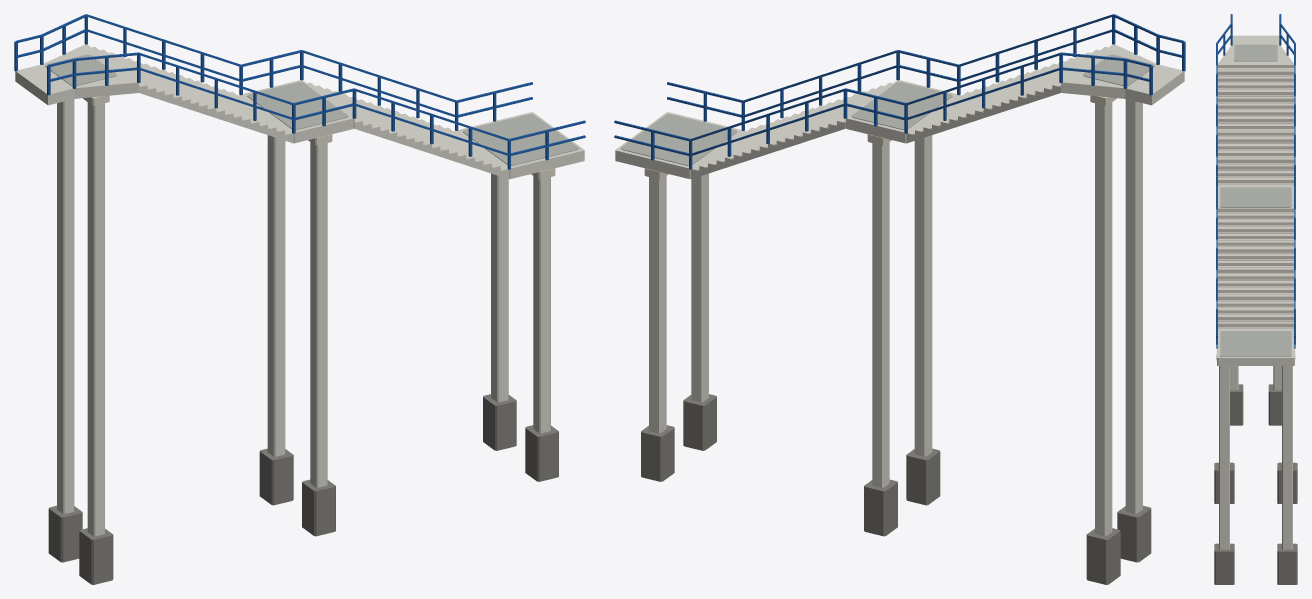
Rendered from access_stair.glb.
3 renders of one model, left to right at view 1: azimuth 30°, elevation 25°; view 2: azimuth 150°, elevation 25°; view 3: azimuth 270°, elevation 25°, orthographic. The views are drawn at different scales.
Parts seen in each view (by area): view 1: EXPORT_access_stair; view 2: EXPORT_access_stair; view 3: EXPORT_access_stair.
Boxes of the visible parts, x1=… form: EXPORT_access_stair: x1=14, y1=14, x2=585, y2=584; EXPORT_access_stair: x1=614, y1=14, x2=1185, y2=584; EXPORT_access_stair: x1=1214, y1=14, x2=1297, y2=584.
Size of the model in its own units: 20.86 by 19.84 by 3.84.
